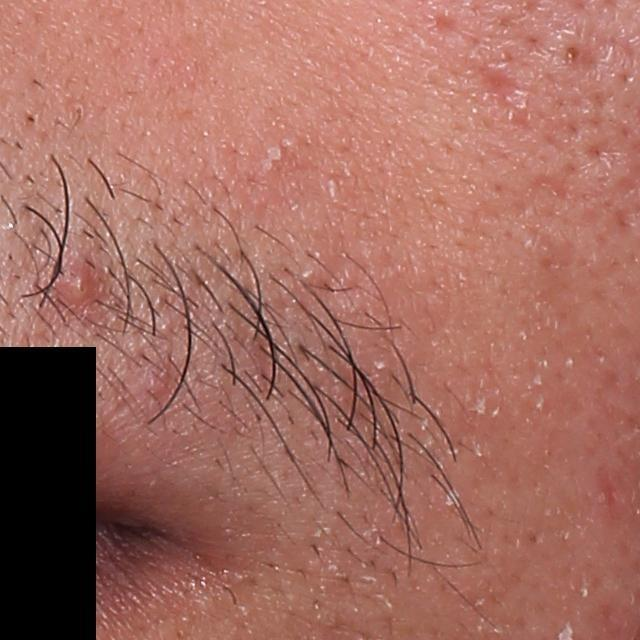atrophic_scar: (473, 65, 541, 125), (428, 10, 460, 43)
comedo: (560, 47, 586, 67)
papule: (139, 352, 171, 406)
pustule: (59, 264, 95, 311)
